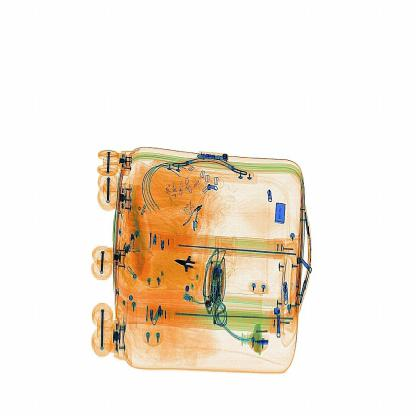gun: (172, 241, 209, 286)
